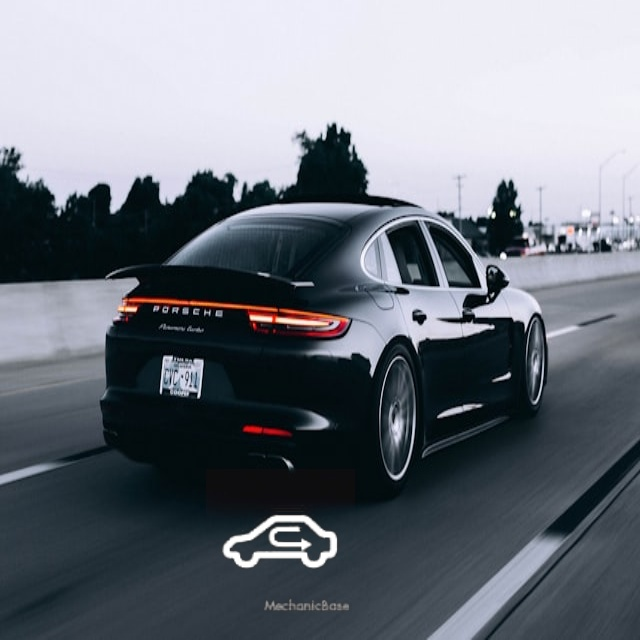symbol: (206, 469, 355, 618)
